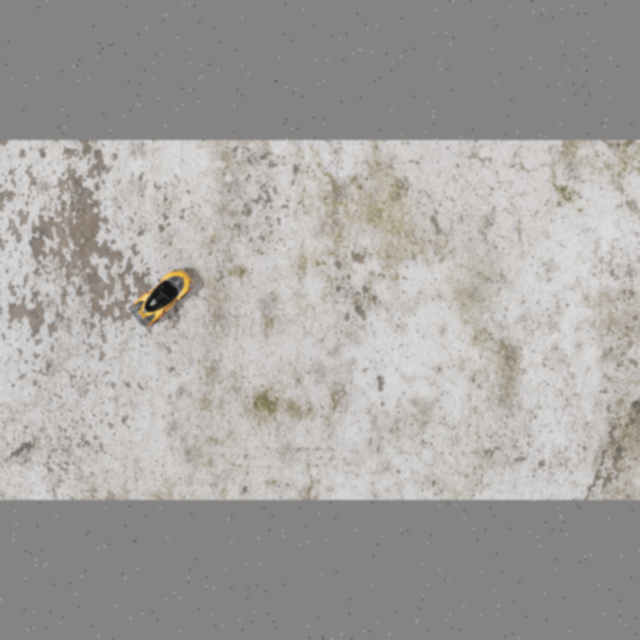car: (124, 262, 198, 330)
